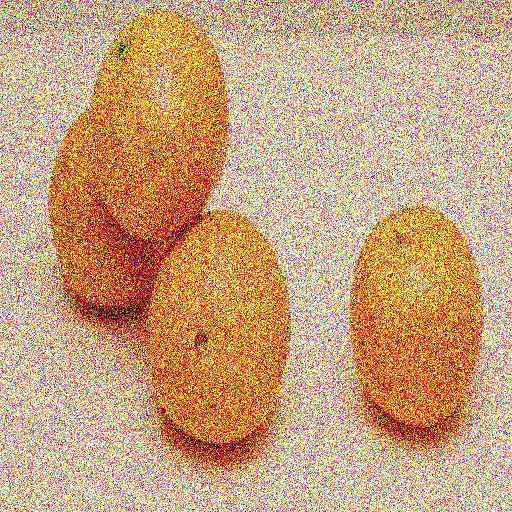fruit: (172, 185, 512, 512), (73, 189, 240, 512), (48, 78, 144, 256), (20, 99, 81, 367)
